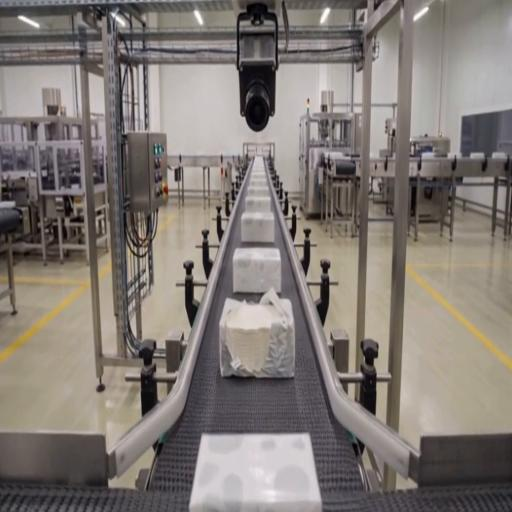defective: (219, 292, 295, 378)
good: (191, 431, 319, 512), (232, 248, 282, 296), (240, 211, 276, 246), (244, 195, 272, 214), (247, 168, 270, 184), (249, 158, 267, 170)
